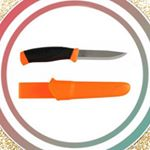knife: (19, 46, 127, 65)
